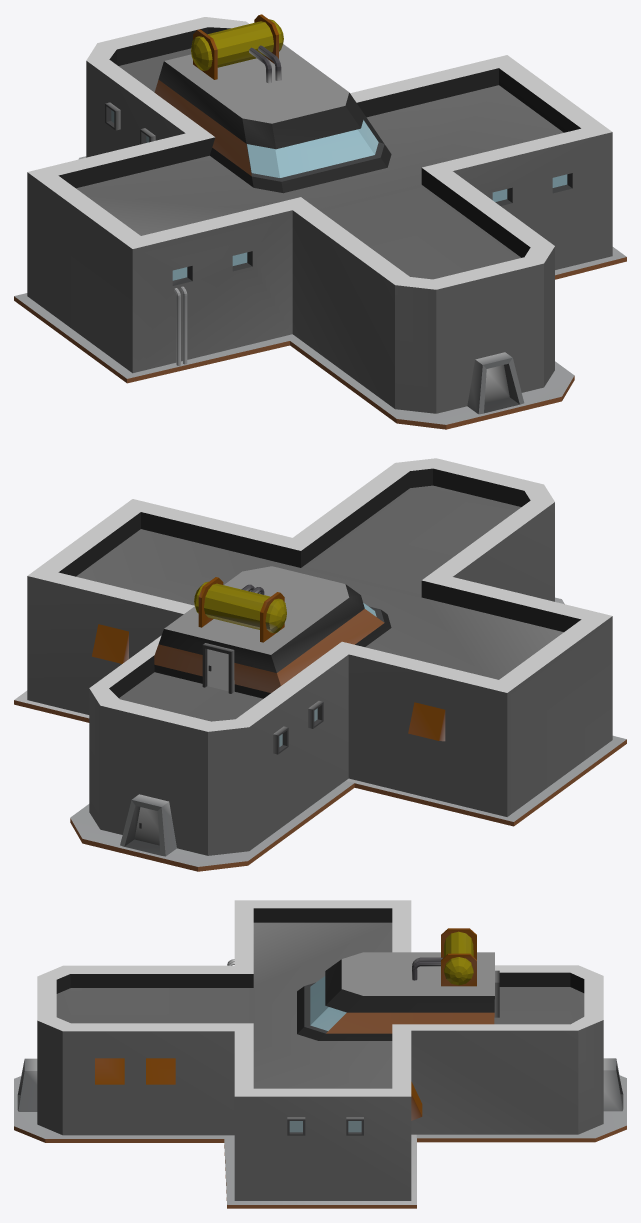
The model's file is edificacao3-1.fbx.
3 views of the same model, one above another, from view 1: azimuth 30°, elevation 25°; view 2: azimuth 150°, elevation 25°; view 3: azimuth 270°, elevation 25° (orthographic). The views are drawn at different scales.
Visible parts, largest first — view 1: edificacao3-1; view 2: edificacao3-1; view 3: edificacao3-1.
Boxes of the visible parts, left/top/right/bottom form: edificacao3-1: left=14, top=14, right=626, bottom=429; edificacao3-1: left=14, top=458, right=626, bottom=871; edificacao3-1: left=14, top=900, right=626, bottom=1208.
Size of the model in its own units: 2583 by 964 by 3271.
